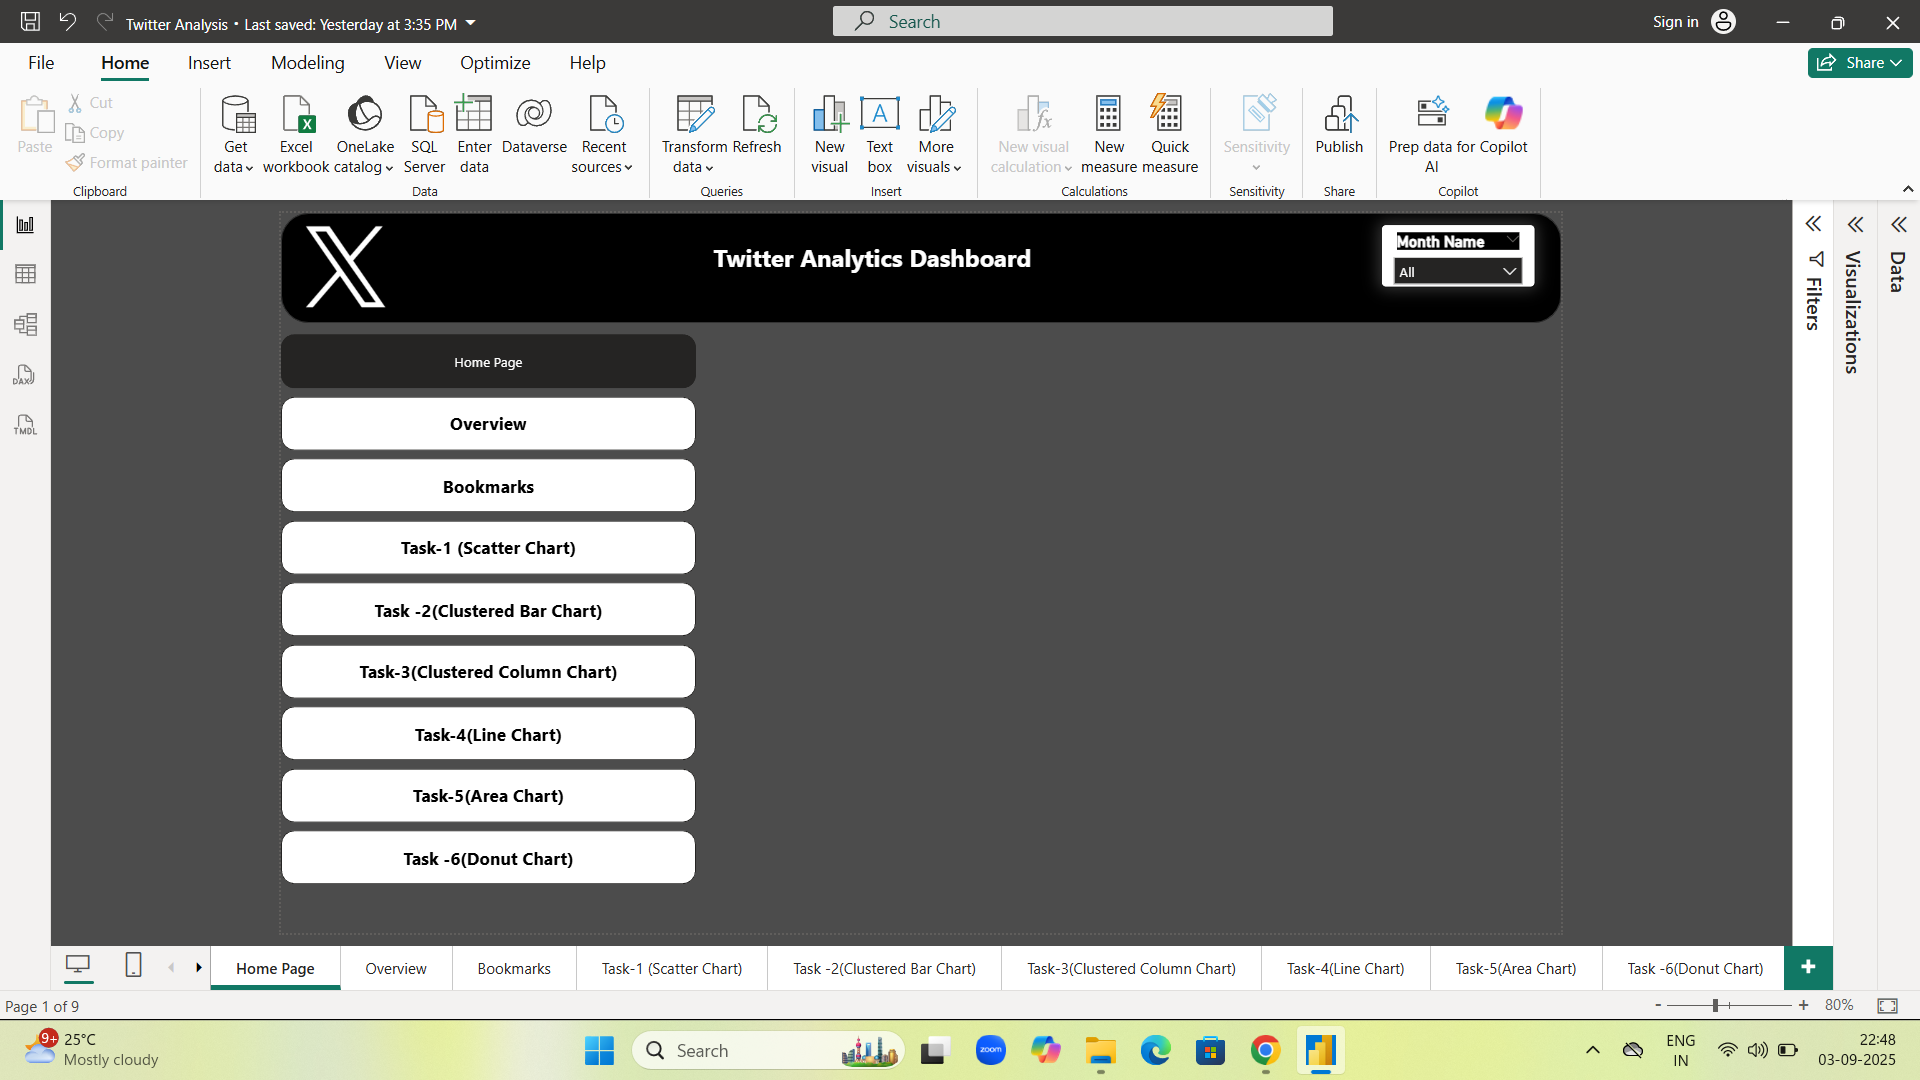

The page's visual inventory and layout, read from the dashboard file:
{"tool":"powerbi","page":{"name":"Home Page","canvas":[1280,720],"ordinal":0},"visuals":[{"type":"shape","box":[0,0,1280.3,110.1],"z":0},{"type":"image","box":[8.6,0,112.5,110.1],"z":1000},{"type":"slicer","fields":{"Values":["SocialMedia (1).Month Name"]},"box":[1100.5,11,154.1,63.6],"z":2000},{"type":"textbox","box":[428,23.2,331.4,51.4],"z":3000},{"type":"pageNavigator","box":[0,121.1,415.8,552.7],"z":4000}]}

Visuals, with their boxes on the page's 1280x720 design canvas (x1, y1, x2, y2). These are canvas units, not pixel positions in the 1920x1080 screenshot, which may show the page scaled, cropped or inside an application window:
shape: <bbox>0, 0, 1280, 110</bbox>
image: <bbox>9, 0, 121, 110</bbox>
slicer - SocialMedia (1).Month Name: <bbox>1100, 11, 1255, 75</bbox>
textbox: <bbox>428, 23, 759, 75</bbox>
pageNavigator: <bbox>0, 121, 416, 674</bbox>
